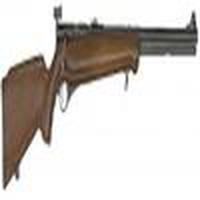gun: (3, 19, 197, 186)
